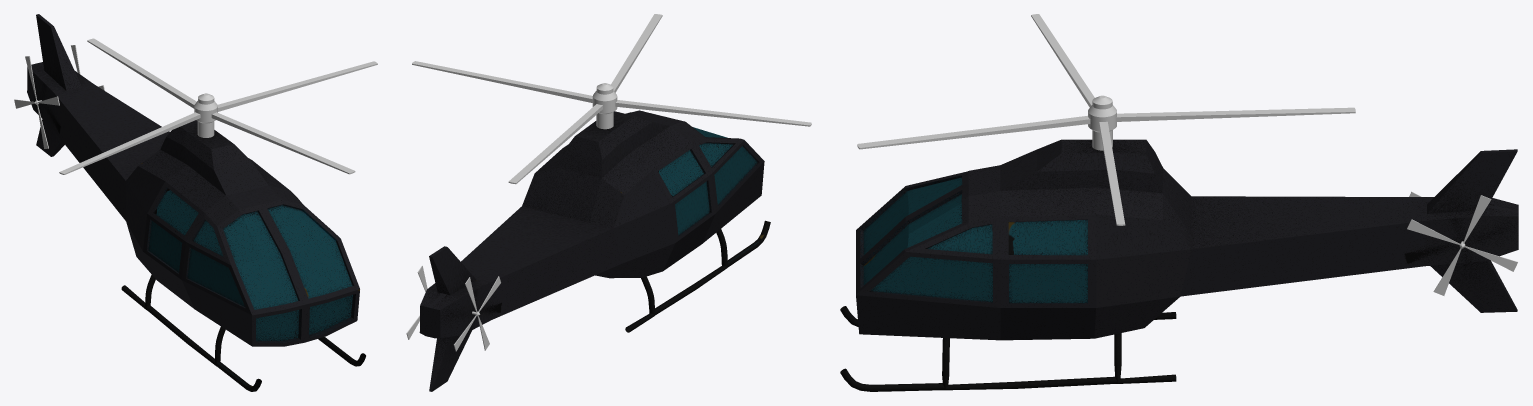
File: anim_000049.obj
The picture shows the model from 3 angles, left to right: view 1: azimuth 30°, elevation 25°; view 2: azimuth 150°, elevation 25°; view 3: azimuth 270°, elevation 25°; orthographic projection. The views are drawn at different scales.
Visible parts, largest first — view 1: Helicopter.007_Cylinder.008, Helicopter.001_Cylinder.001, Helicopter.004_Cylinder.005; view 2: Helicopter.007_Cylinder.008, Helicopter.001_Cylinder.001, Helicopter.004_Cylinder.005; view 3: Helicopter.007_Cylinder.008, Helicopter.001_Cylinder.001, Helicopter.003_Cylinder.004.
Part boxes in pixels (left/top/right/bottom): Helicopter.007_Cylinder.008: left=27, top=14, right=365, bottom=391; Helicopter.001_Cylinder.001: left=59, top=38, right=377, bottom=174; Helicopter.004_Cylinder.005: left=14, top=56, right=59, bottom=148; Helicopter.007_Cylinder.008: left=419, top=110, right=770, bottom=391; Helicopter.001_Cylinder.001: left=412, top=14, right=811, bottom=184; Helicopter.004_Cylinder.005: left=454, top=276, right=500, bottom=351; Helicopter.007_Cylinder.008: left=840, top=139, right=1518, bottom=391; Helicopter.001_Cylinder.001: left=857, top=14, right=1355, bottom=225; Helicopter.003_Cylinder.004: left=1407, top=195, right=1517, bottom=295.
Size of the model in its own units: 5.5 by 3.21 by 7.49.
